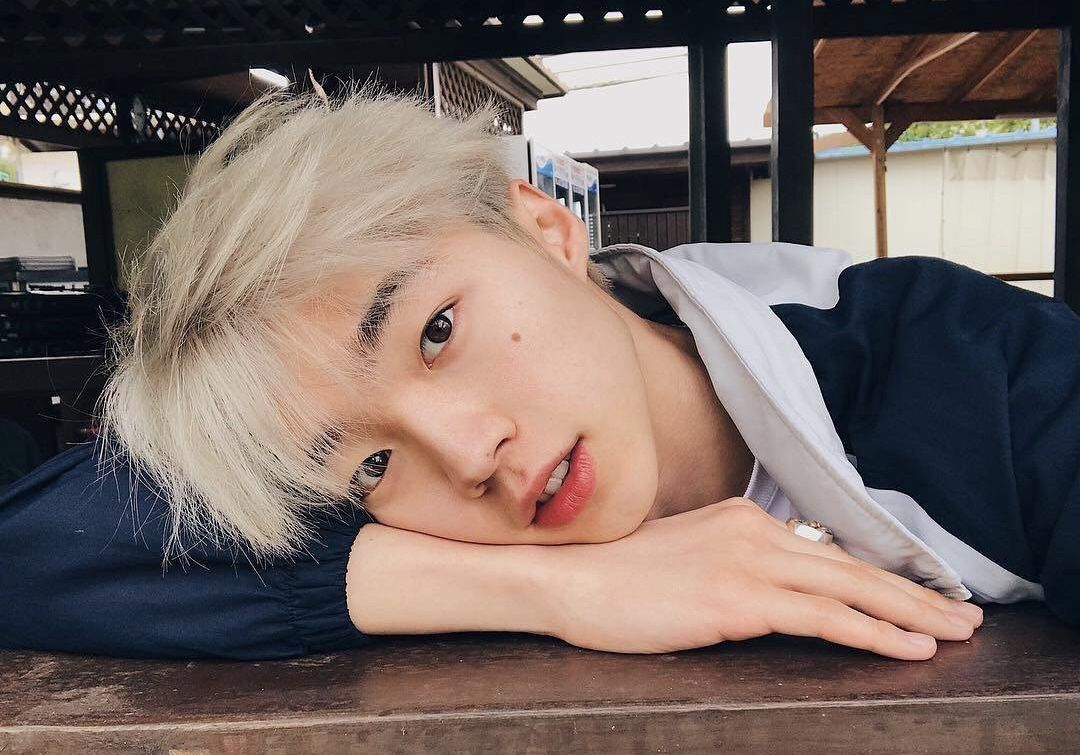person: (73, 123, 775, 529)
